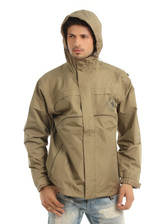clothoes: (21, 9, 145, 197)
